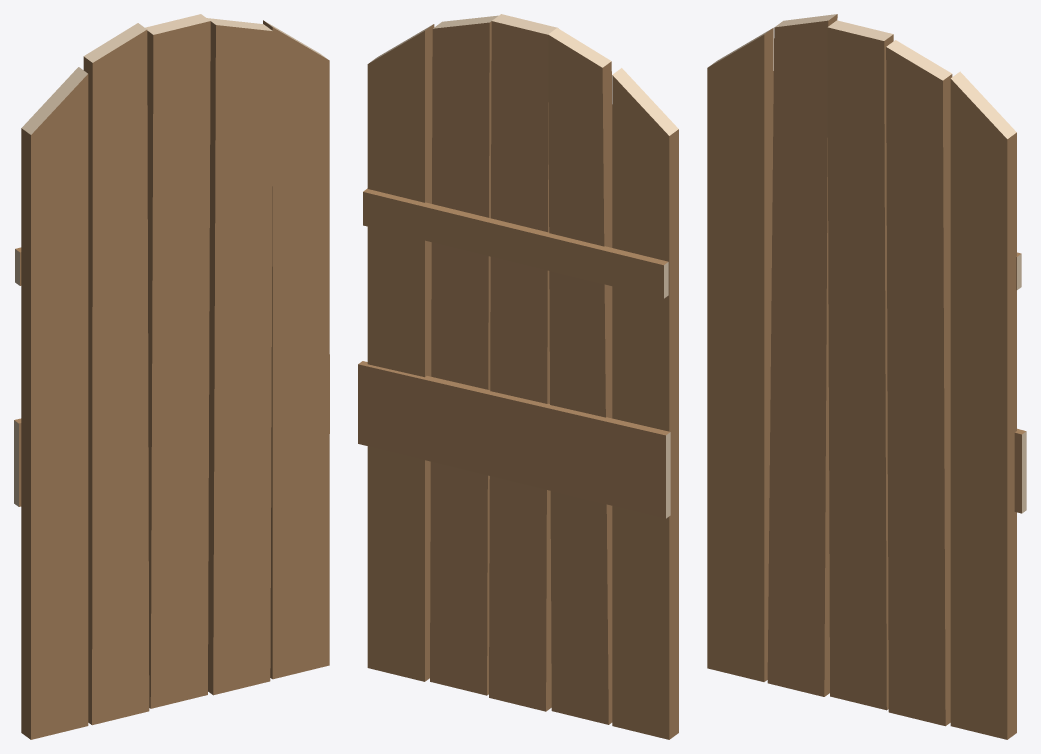
The model's file is SM_garden_door.fbx.
3 renders of one model, left to right at view 1: azimuth 30°, elevation 25°; view 2: azimuth 150°, elevation 25°; view 3: azimuth 330°, elevation 25°, orthographic.
Visible parts, largest first — view 1: Box056; view 2: Box056; view 3: Box056.
Boxes of the visible parts, bbox=[...] form: Box056: bbox=[14, 14, 329, 739]; Box056: bbox=[358, 14, 678, 739]; Box056: bbox=[707, 14, 1026, 739].
Bounding box in the file's own units: 43.57 × 91.29 × 4.38.
